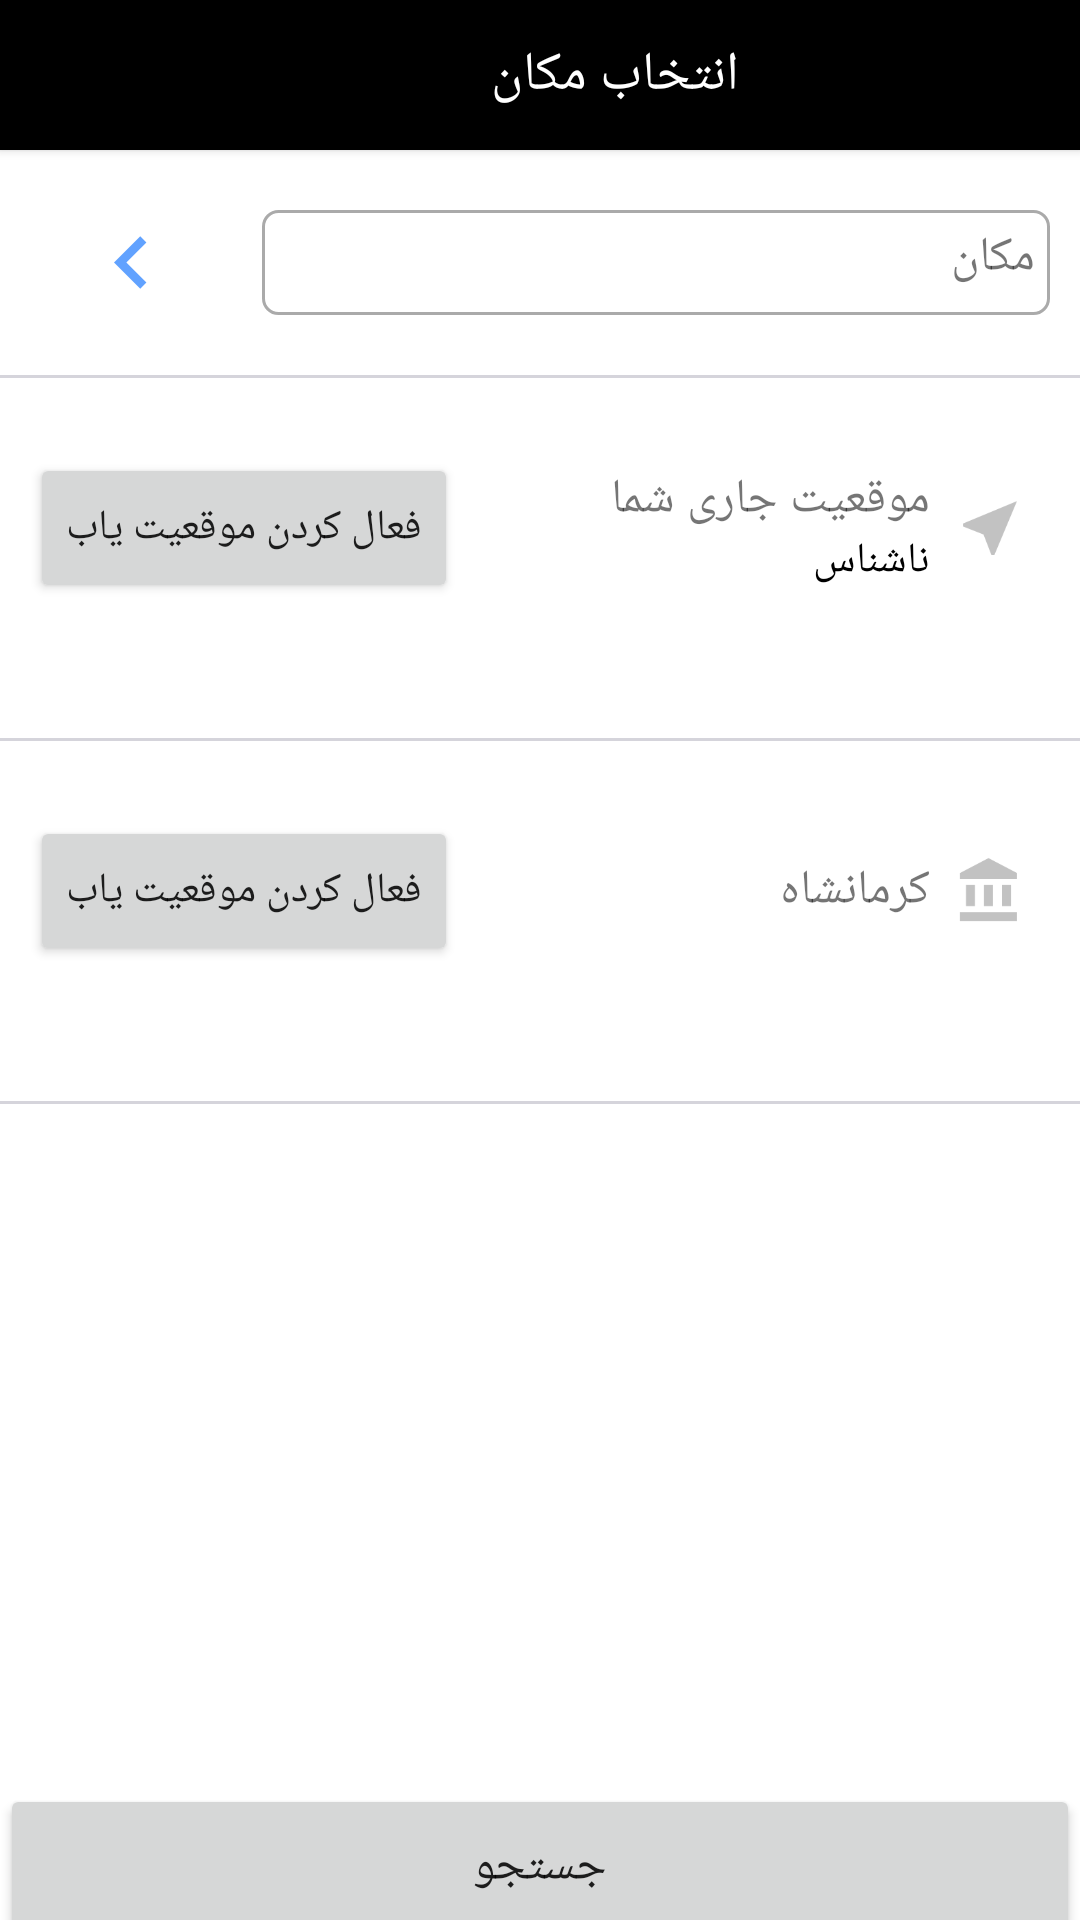

Screen size 1080*1920. Icon name, then its center in pixels as (x=x, y=y):
account balance: (x=988, y=889)
navigate before: (x=130, y=262)
near me: (x=989, y=528)
